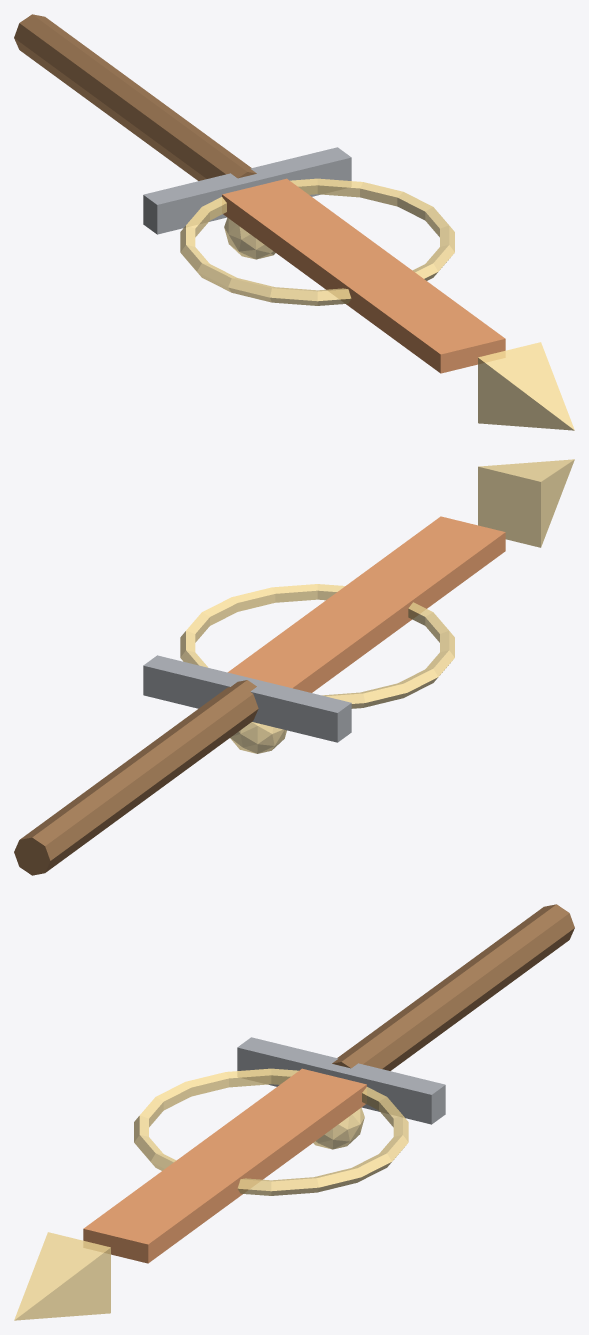
Rendered from 03_magic_weapon_upgrade.glb.
The picture shows the model from 3 angles, top to bottom: view 1: azimuth 30°, elevation 25°; view 2: azimuth 150°, elevation 25°; view 3: azimuth 330°, elevation 25°; orthographic projection.
Visible parts, largest first — view 1: enchanted_blade_or_focus, weapon_handle, rune_orbit, weapon_guard, weapon_tip, gem_socket; view 2: enchanted_blade_or_focus, weapon_handle, weapon_guard, weapon_tip, rune_orbit, gem_socket; view 3: enchanted_blade_or_focus, weapon_handle, rune_orbit, weapon_guard, weapon_tip, gem_socket.
Boxes of the visible parts, bbox=[...] form: enchanted_blade_or_focus: bbox=[222, 178, 505, 373]; weapon_handle: bbox=[14, 14, 256, 180]; rune_orbit: bbox=[180, 178, 454, 305]; weapon_guard: bbox=[143, 147, 351, 234]; weapon_tip: bbox=[478, 342, 574, 430]; gem_socket: bbox=[224, 217, 275, 259]; enchanted_blade_or_focus: bbox=[228, 516, 505, 692]; weapon_handle: bbox=[14, 680, 258, 875]; weapon_guard: bbox=[143, 655, 351, 742]; weapon_tip: bbox=[478, 459, 574, 547]; rune_orbit: bbox=[180, 584, 454, 708]; gem_socket: bbox=[230, 722, 286, 753]; enchanted_blade_or_focus: bbox=[83, 1068, 366, 1263]; weapon_handle: bbox=[332, 904, 574, 1070]; rune_orbit: bbox=[134, 1068, 408, 1195]; weapon_guard: bbox=[237, 1037, 445, 1124]; weapon_tip: bbox=[14, 1232, 110, 1320]; gem_socket: bbox=[313, 1107, 364, 1149].
Size of the model in its own units: 0.596 by 0.2178 by 2.32.
